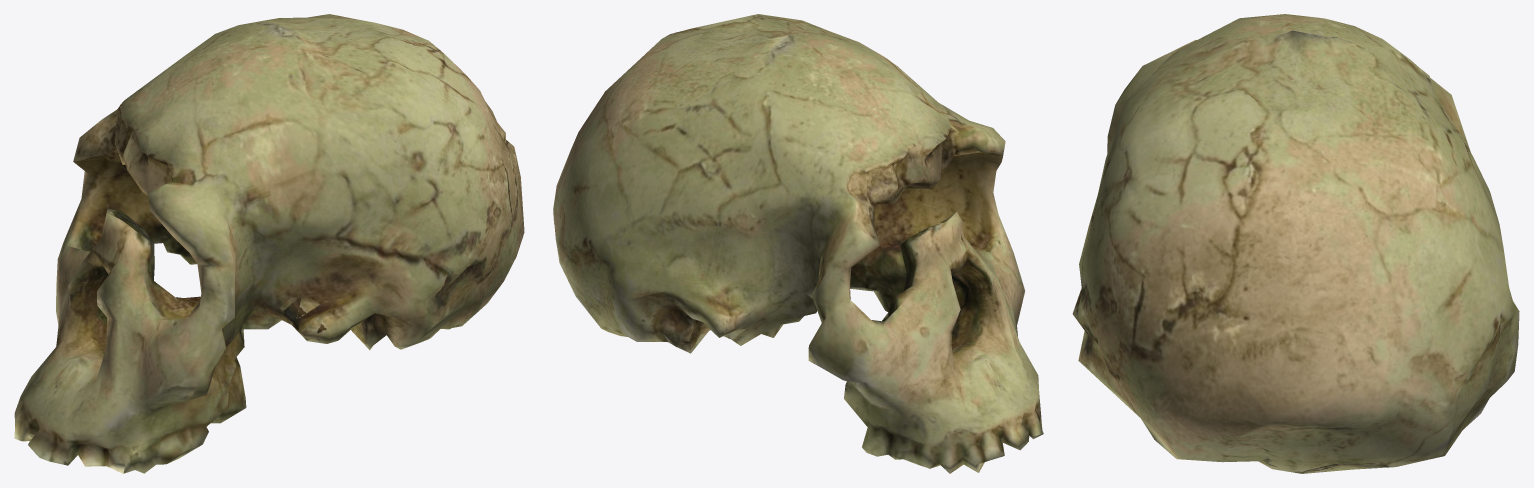
The model's file is turkana-skull.glb.
The picture shows the model from 3 angles, left to right: view 1: azimuth 30°, elevation 25°; view 2: azimuth 150°, elevation 25°; view 3: azimuth 270°, elevation 25°; orthographic projection. The views are drawn at different scales.
Size of the model in its own units: 0.1954 by 0.1464 by 0.1308.
Materials: 1 (1 with a texture image).
